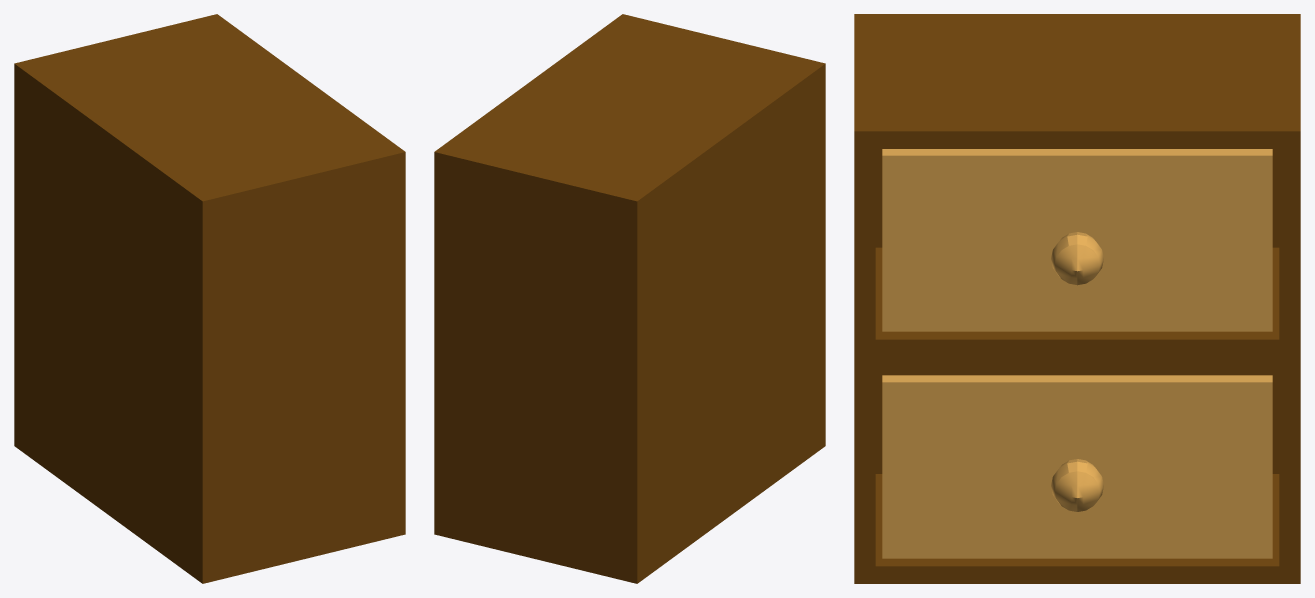
File: Drawer.fbx
3 renders of one model, left to right at view 1: azimuth 30°, elevation 25°; view 2: azimuth 150°, elevation 25°; view 3: azimuth 270°, elevation 25°, orthographic. The views are drawn at different scales.
Visible parts, largest first — view 1: Cube; view 2: Cube; view 3: Cube, Cube.001, Cube.002.
Boxes of the visible parts, x1,y1,x2,y2 form: Cube: (14,14,405,583); Cube: (434,14,825,583); Cube: (854,14,1300,583); Cube.001: (882,375,1272,558); Cube.002: (882,149,1272,331).
Size of the model in its own units: 317 by 462 by 413.
